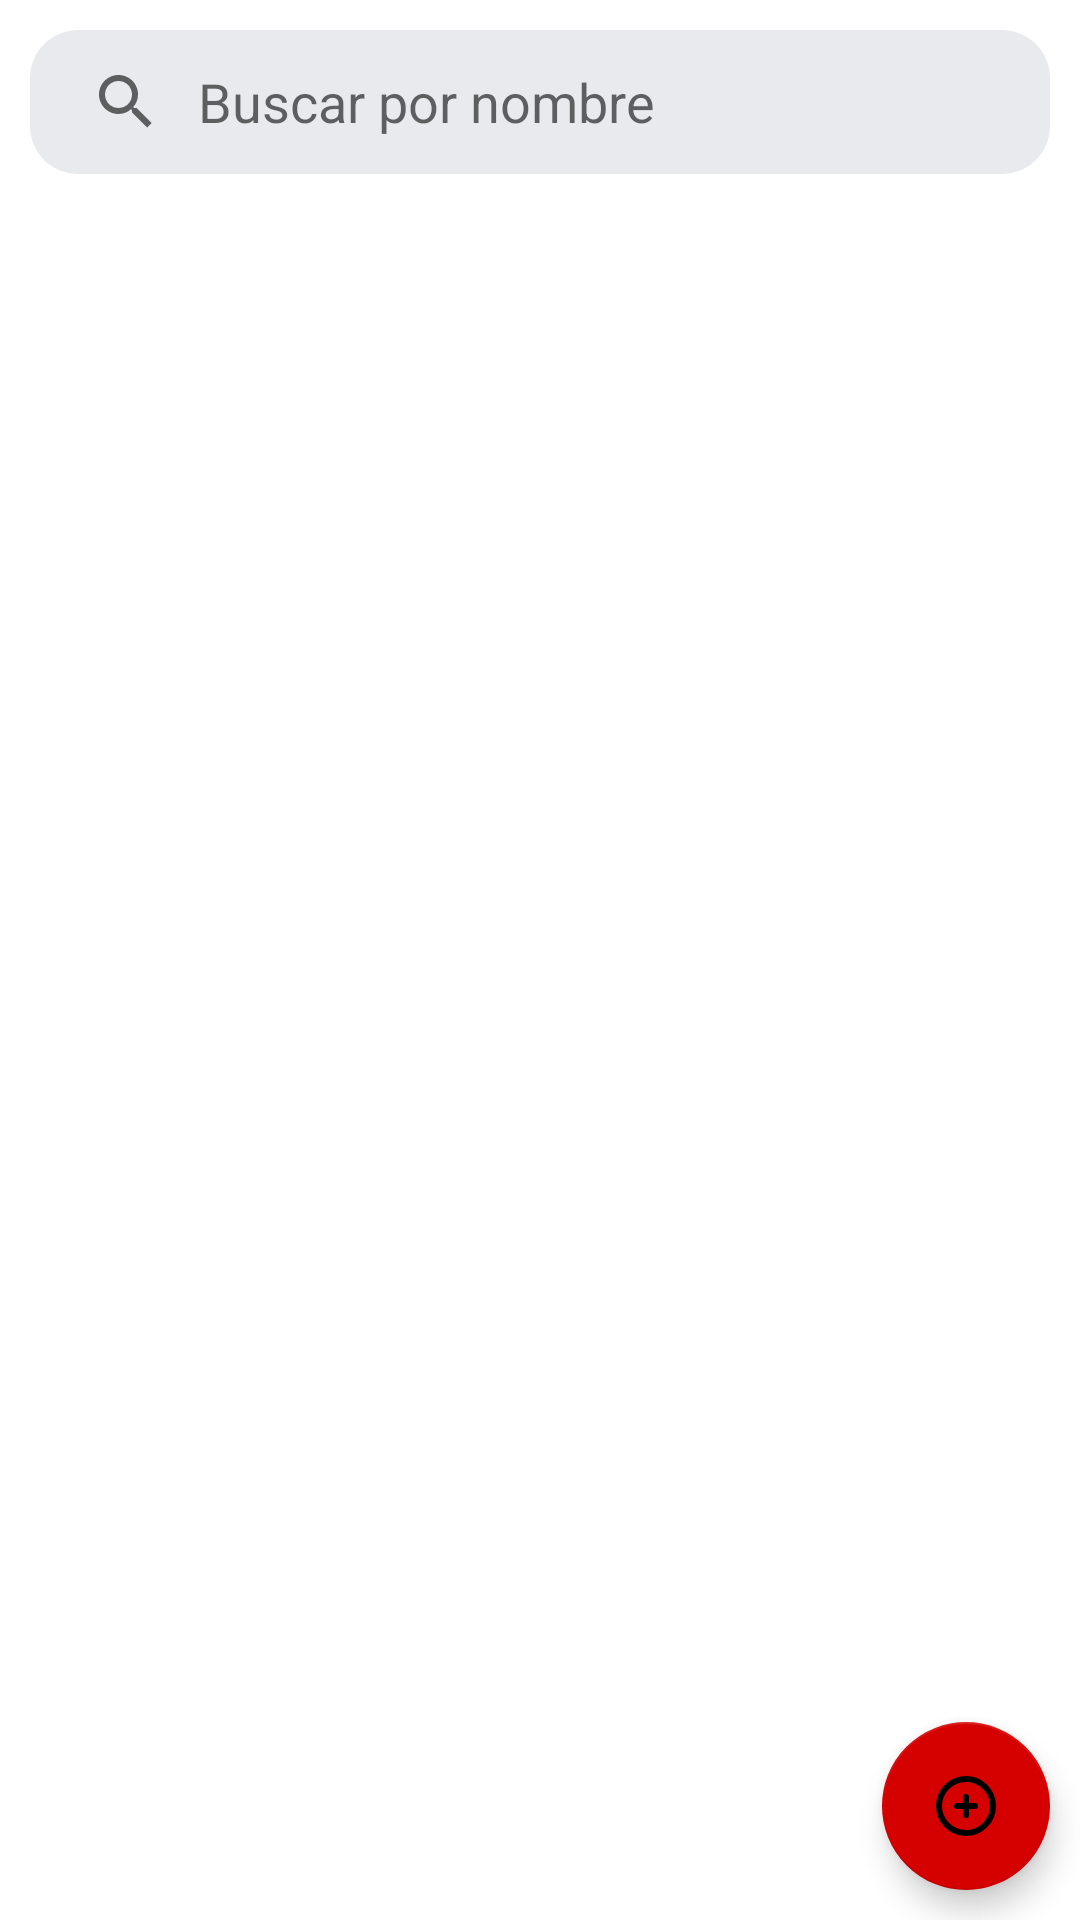

Named icons in this screenshot (1080 x 1920) and their centers, (x,y):
Nuevo usuario: (966,1806)
